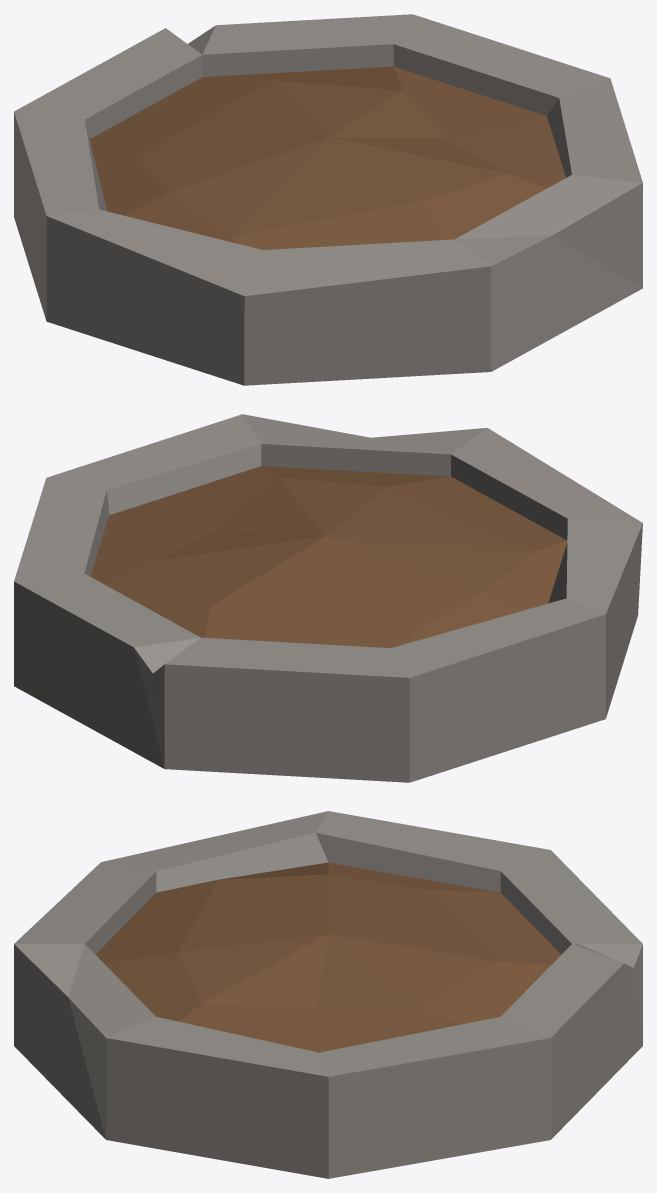
Rendered from SM_Env_Tree_Base_01.fbx.
3 views of the same model, one above another, from view 1: azimuth 30°, elevation 25°; view 2: azimuth 150°, elevation 25°; view 3: azimuth 270°, elevation 25° (orthographic). The views are drawn at different scales.
Parts seen in each view (by area): view 1: SM_Env_Tree_Base_01; view 2: SM_Env_Tree_Base_01; view 3: SM_Env_Tree_Base_01.
Part boxes in pixels (left/top/right/bottom): SM_Env_Tree_Base_01: left=14, top=14, right=642, bottom=385; SM_Env_Tree_Base_01: left=14, top=414, right=642, bottom=782; SM_Env_Tree_Base_01: left=14, top=811, right=642, bottom=1178.
Bounding box in the file's own units: 119 × 23.25 × 119.
